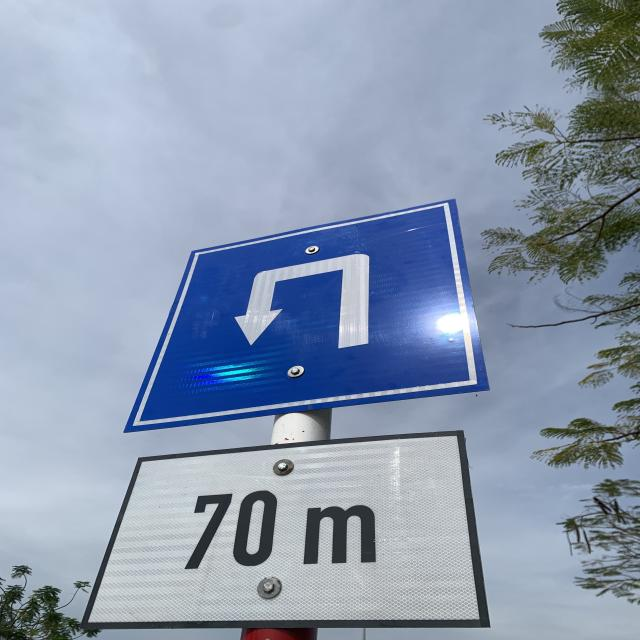Den_Giao_Thong: (122, 200, 493, 433)
